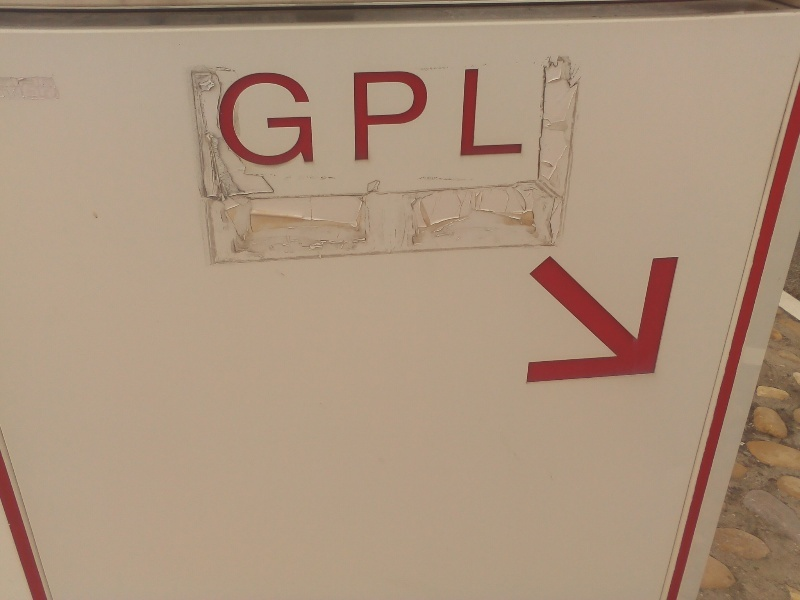text: (225, 65, 240, 168), (241, 65, 256, 168), (257, 65, 272, 168), (273, 65, 288, 168), (289, 65, 304, 168), (305, 65, 320, 168), (321, 65, 336, 168), (337, 65, 352, 168), (353, 65, 368, 168), (369, 65, 384, 168), (385, 65, 400, 168), (401, 65, 416, 168), (417, 65, 432, 168), (433, 65, 448, 168), (449, 65, 464, 168), (465, 65, 480, 168), (481, 65, 496, 168), (497, 65, 512, 168), (513, 65, 526, 168), (216, 65, 224, 168)
